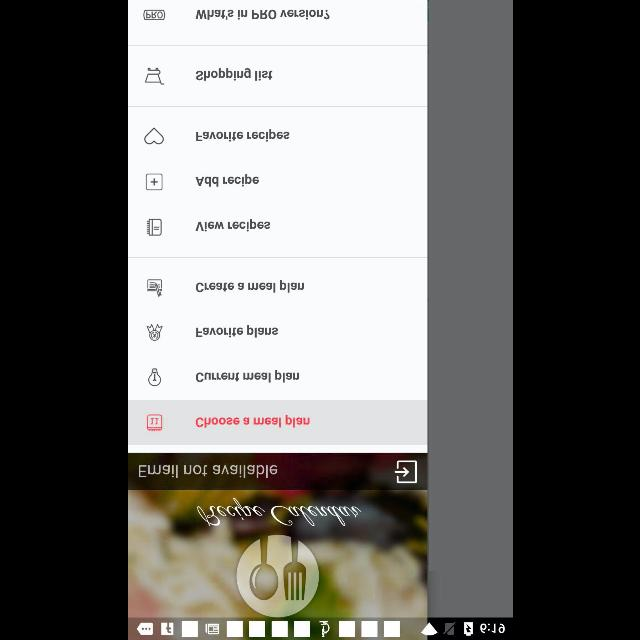icon: (394, 461, 416, 484), (143, 128, 163, 144), (144, 68, 164, 84), (146, 414, 162, 432), (146, 279, 162, 297), (146, 218, 162, 236), (146, 173, 162, 190)
image: (235, 535, 318, 617), (146, 324, 162, 341), (143, 10, 165, 20), (148, 368, 160, 386)
panel: (128, 0, 426, 616)
text: (196, 498, 360, 526), (138, 464, 276, 478), (195, 414, 309, 428), (195, 369, 299, 383), (195, 10, 329, 20), (194, 280, 304, 292), (195, 324, 278, 338), (195, 130, 289, 142), (194, 68, 272, 82), (194, 218, 270, 232), (195, 175, 259, 188)
uppertaskbar: (128, 617, 512, 639)
